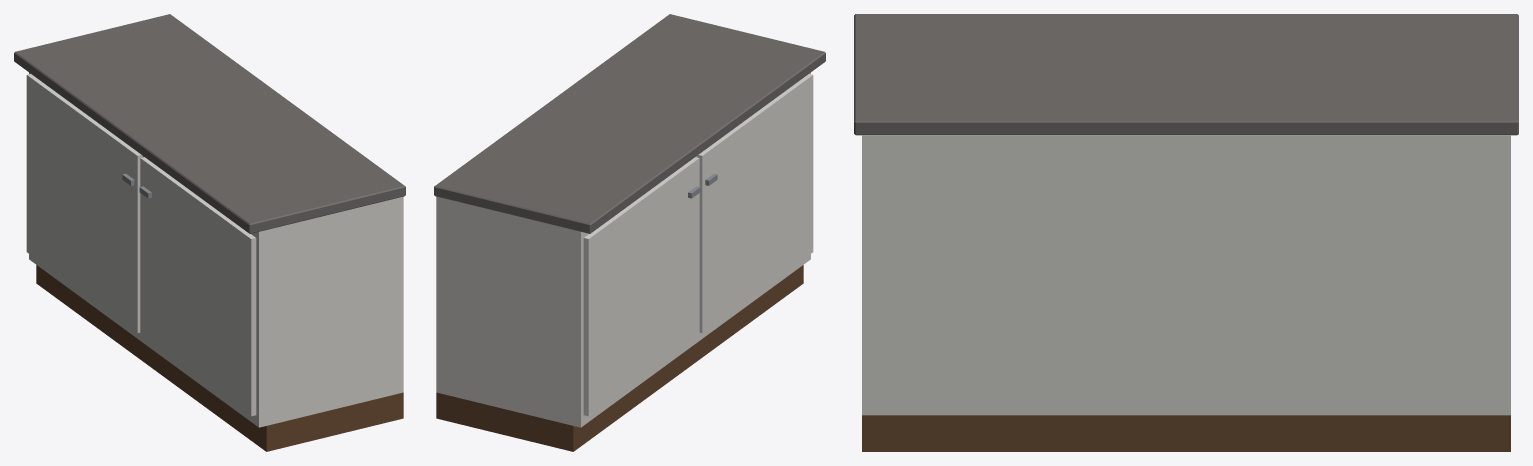
File: Mesada.fbx
3 views of the same model, side by side, from view 1: azimuth 30°, elevation 25°; view 2: azimuth 150°, elevation 25°; view 3: azimuth 270°, elevation 25° (orthographic). The views are drawn at different scales.
Parts seen in each view (by area): view 1: Mesada; view 2: Mesada; view 3: Mesada.
Boxes of the visible parts, x1,y1,x2,y2 form: Mesada: (14,14,405,451); Mesada: (434,14,825,451); Mesada: (854,14,1518,451).
Size of the model in its own units: 0.63 by 0.9 by 1.64.
